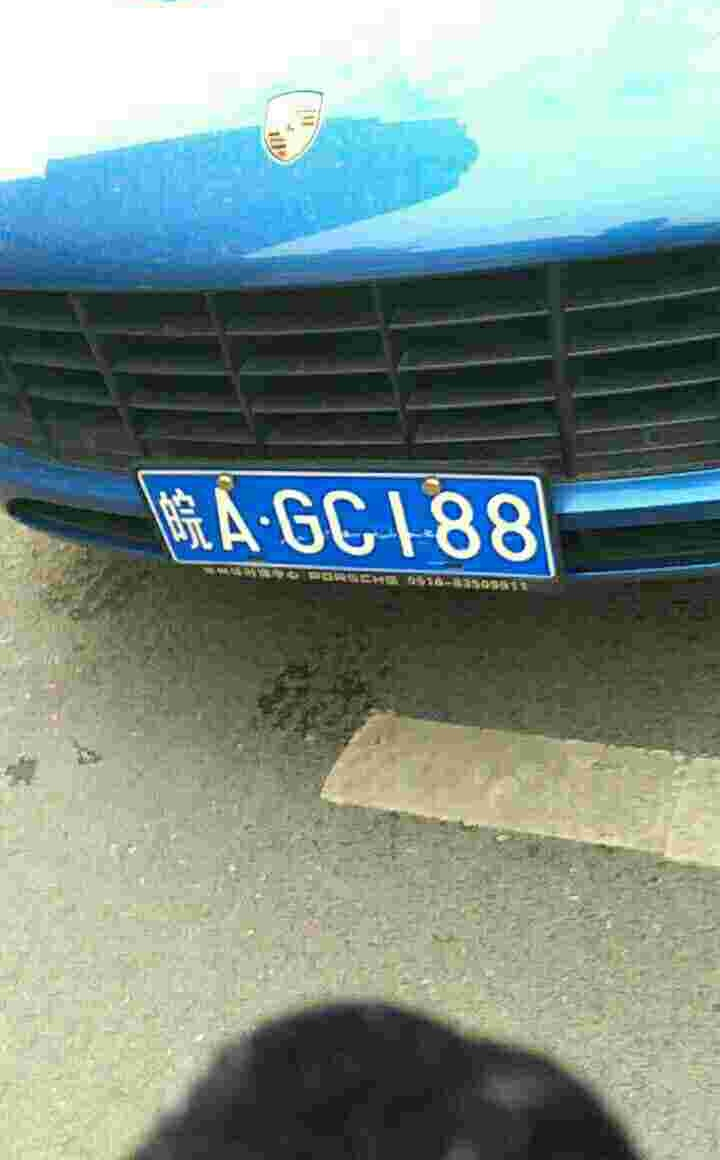license_plate: (147, 474, 560, 579)
